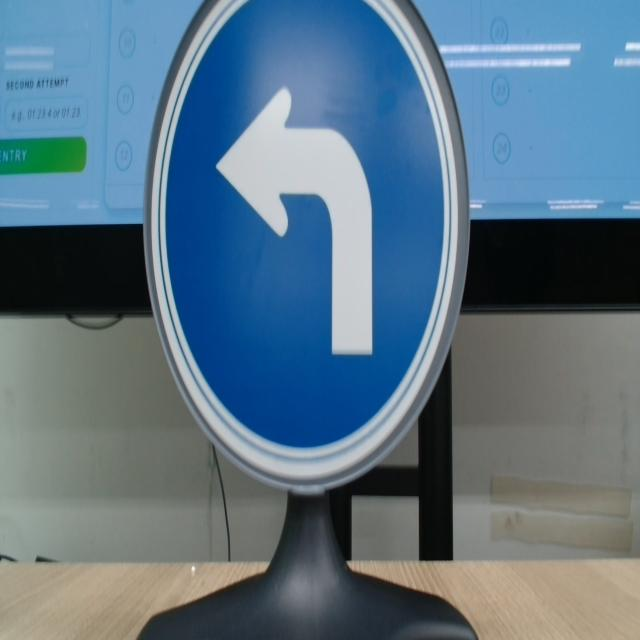left_direction: (126, 0, 482, 519)
